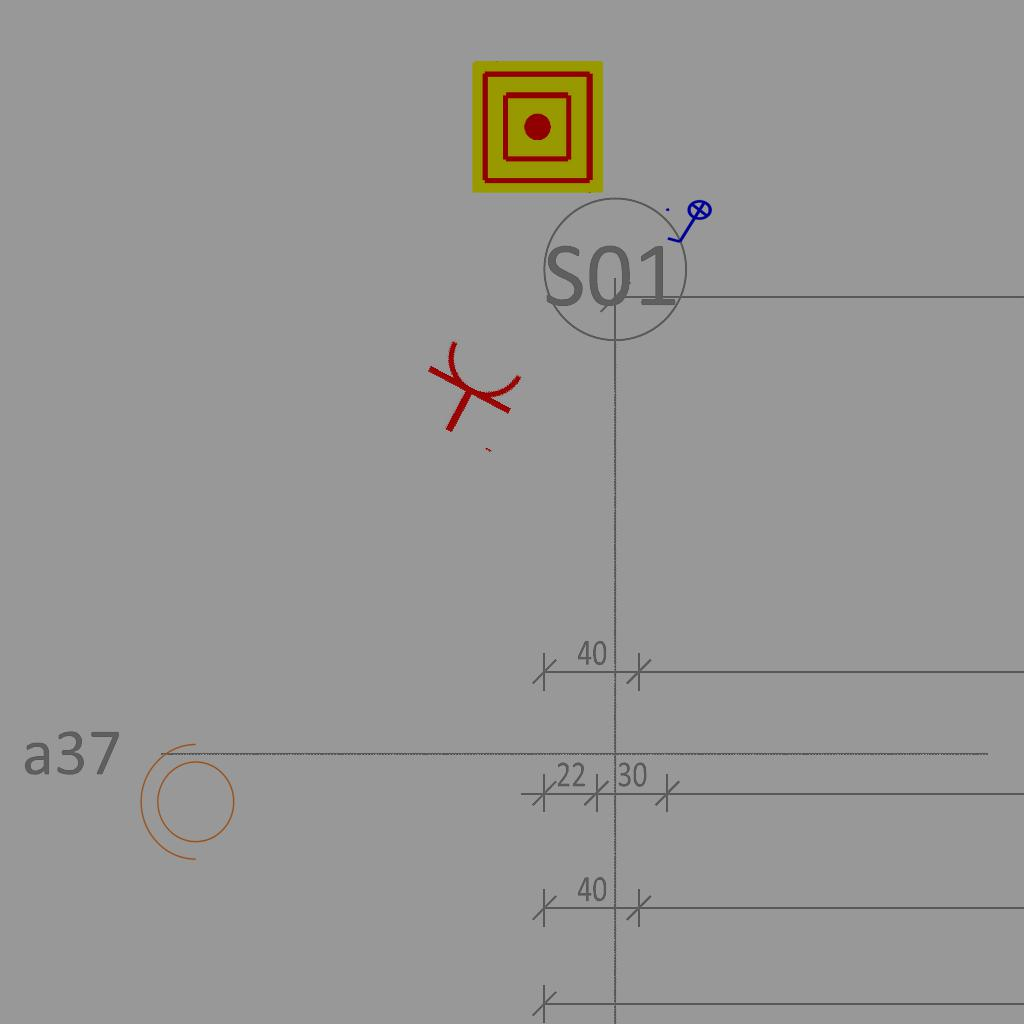Ausschalter_beleuchtet: (663, 199, 719, 247)
NAM-Nichtautomatischer_Melder: (472, 61, 604, 193)
Scheinwerfer_fuer_Alarmbeleuchtung: (135, 739, 247, 871)
Schukosteckdose_einfach: (404, 333, 535, 457)
